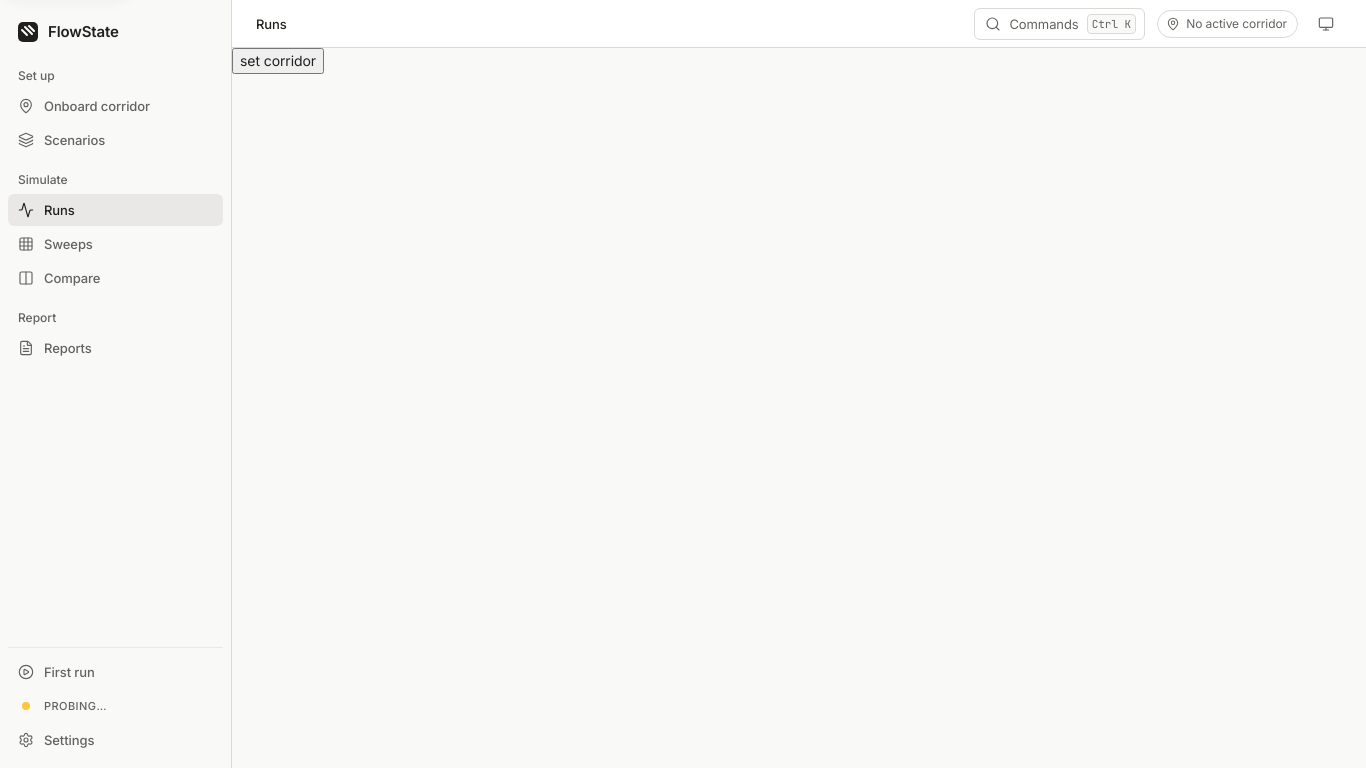
theme controls › cycles System, Light, Dark from the top bar and remembers the choice
The width and height of the screenshot is (1366, 768).
Click the button named "Theme: System" at (1326, 24), box top-left (1310, 8), bottom-right (1342, 40)
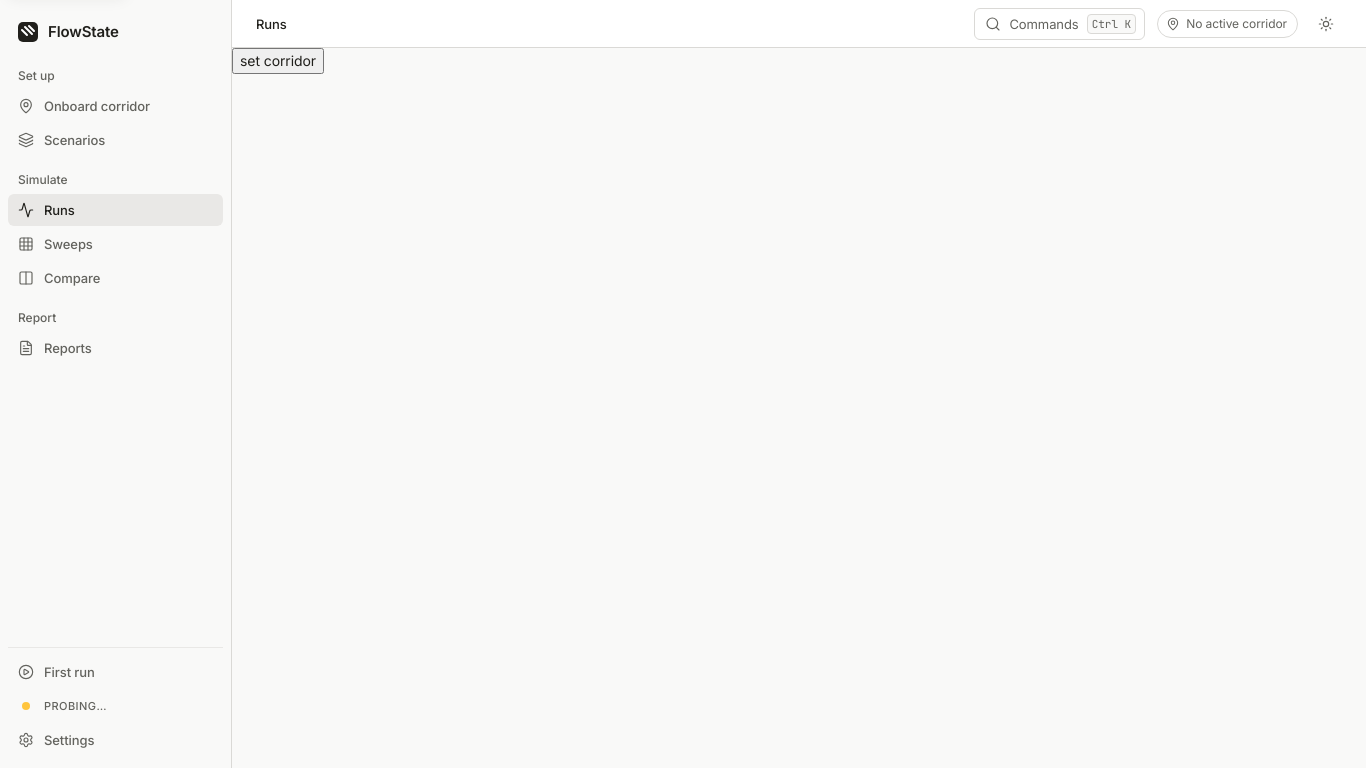
Click the button named "Theme: Light" at (1326, 24), box top-left (1310, 8), bottom-right (1342, 40)
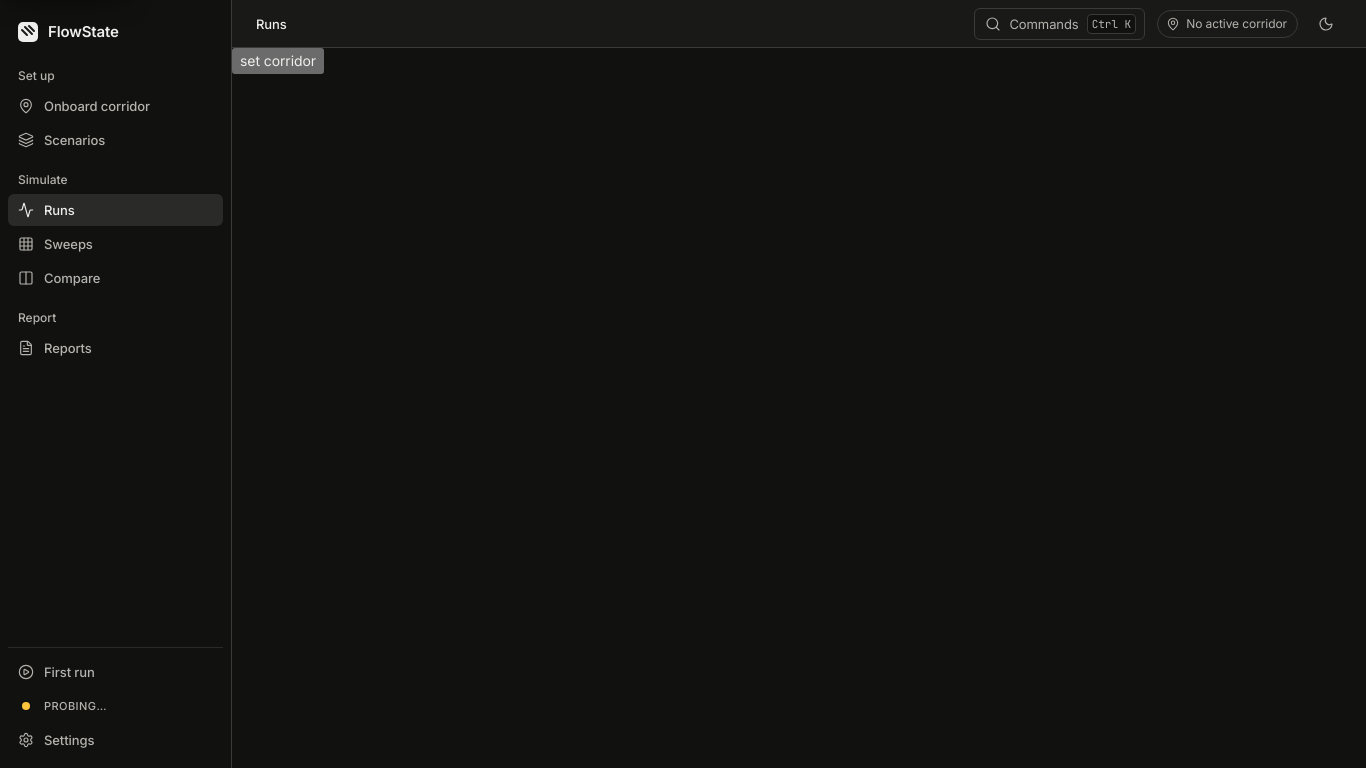
Click the button named "Theme: Dark" at (1326, 24), box top-left (1310, 8), bottom-right (1342, 40)
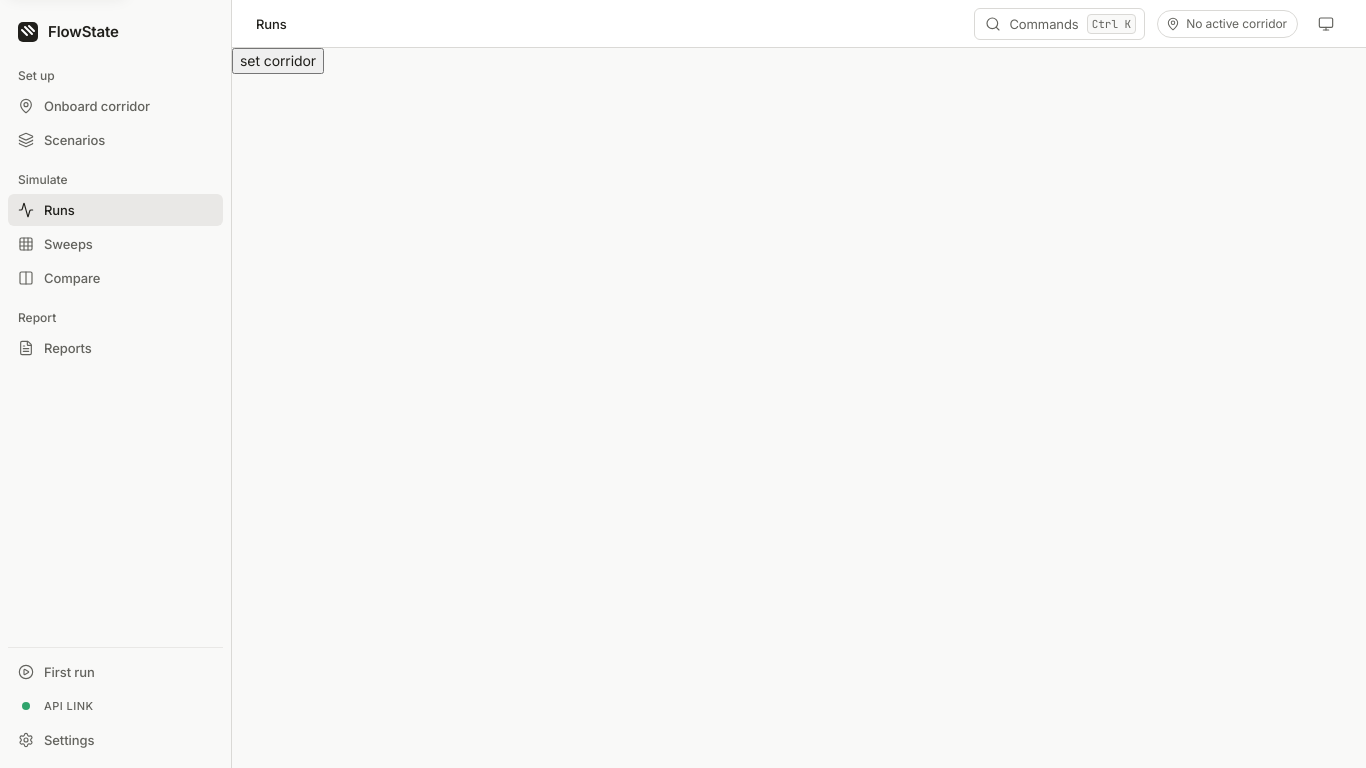
Check: the button named "Theme: System" is shown, box top-left (1310, 8), bottom-right (1342, 40)
Check: the text "API LINK" is shown, box top-left (44, 698), bottom-right (93, 714)
